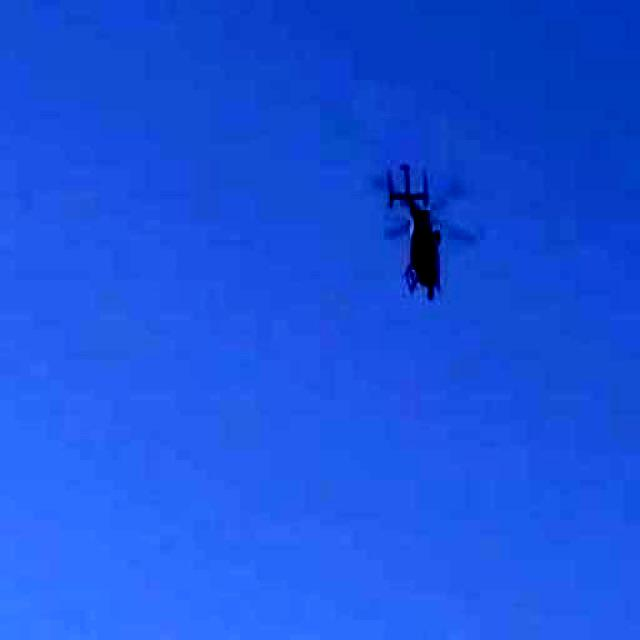drone: (360, 162, 484, 334)
